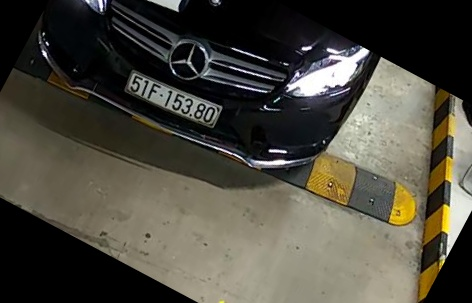plate: (118, 60, 222, 132)
